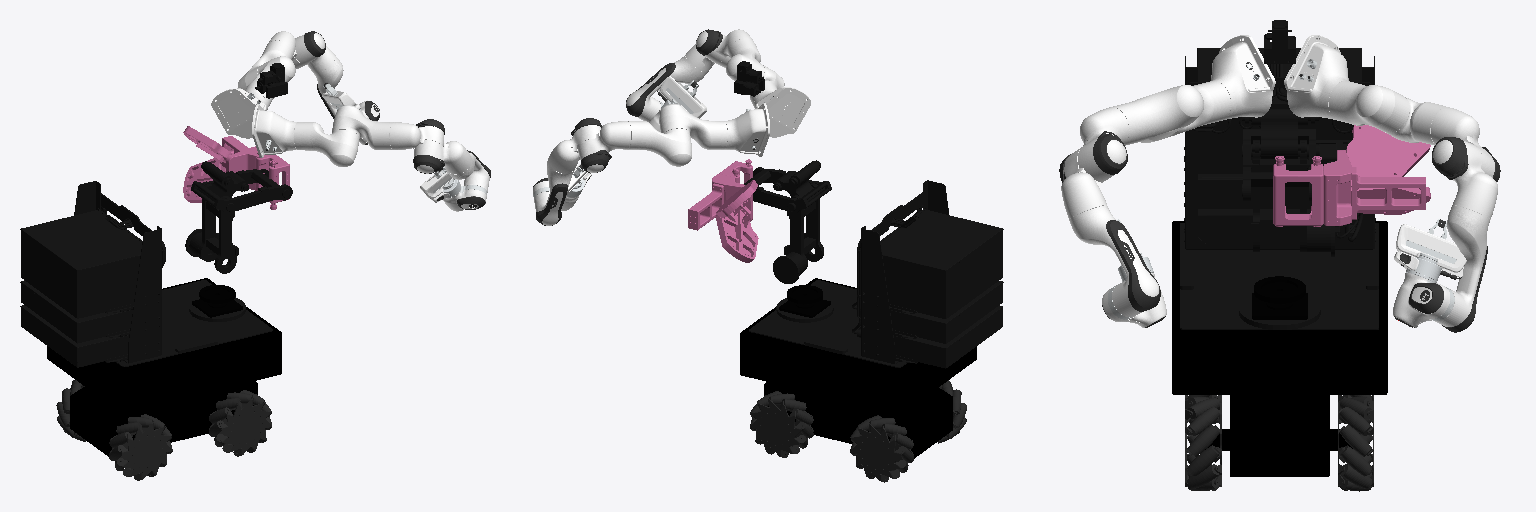
--- Facts derived from the render (not from the file) ---
3 views of the same robot in one strip: view 1: azimuth 30°, elevation 25°; view 2: azimuth 150°, elevation 25°; view 3: azimuth 270°, elevation 25° (orthographic).
Robot: curi — 40 links, 39 joints (16 revolute, 4 prismatic, 18 fixed, 1 floating); root link world; default pose: all joints at 0 but 2 set to mid-range because 0 is outside their limits (panda_left_joint4 = -1.57, panda_right_joint4 = -1.57).
Links seen in each view (by area): view 1: control_box, summit_xls_base_link, torso_end, summit_xls_back_right_wheel_link, summit_xls_front_right_wheel_link, torso_link_b2, torso_link_c1, panda_right_link1, panda_left_link0, panda_right_link0, panda_right_link4, panda_right_link2 (+10 smaller); view 2: control_box, summit_xls_base_link, torso_end, summit_xls_back_left_wheel_link, summit_xls_front_left_wheel_link, torso_link_b2, panda_left_link2, panda_right_link0, panda_right_link5, panda_left_link1, panda_left_link0, panda_left_link3 (+9 smaller); view 3: control_box, summit_xls_base_link, torso_end, panda_right_link5, panda_right_link0, panda_left_link0, panda_left_link5, summit_xls_front_right_wheel_link, panda_right_link2, panda_left_link4, summit_xls_front_left_wheel_link, panda_left_link1 (+14 smaller).
Link boxes in pixels (x1,y1,x2,y2): control_box: [20, 181, 272, 367]; summit_xls_base_link: [47, 278, 281, 456]; torso_end: [183, 126, 289, 209]; summit_xls_back_right_wheel_link: [109, 414, 172, 480]; summit_xls_front_right_wheel_link: [209, 390, 271, 456]; torso_link_b2: [185, 184, 238, 273]; torso_link_c1: [191, 169, 292, 213]; panda_right_link1: [294, 122, 359, 166]; panda_left_link0: [211, 88, 267, 138]; panda_right_link0: [252, 104, 296, 157]; panda_right_link4: [413, 140, 470, 173]; panda_right_link2: [332, 105, 392, 149]; control_box: [749, 180, 1003, 368]; summit_xls_base_link: [740, 278, 976, 458]; torso_end: [688, 159, 758, 262]; summit_xls_back_left_wheel_link: [850, 415, 913, 482]; summit_xls_front_left_wheel_link: [750, 391, 813, 457]; torso_link_b2: [773, 183, 823, 283]; panda_left_link2: [628, 121, 691, 166]; panda_right_link0: [754, 87, 810, 137]; panda_right_link5: [626, 54, 706, 121]; panda_left_link1: [659, 104, 727, 149]; panda_left_link0: [724, 103, 769, 156]; panda_left_link3: [578, 121, 630, 172]; control_box: [1180, 48, 1378, 329]; summit_xls_base_link: [1172, 221, 1387, 476]; torso_end: [1273, 125, 1430, 226]; panda_right_link5: [1069, 205, 1160, 316]; panda_right_link0: [1211, 35, 1275, 119]; panda_left_link0: [1284, 35, 1348, 119]; panda_left_link5: [1435, 205, 1489, 332]; summit_xls_front_right_wheel_link: [1185, 397, 1221, 490]; panda_right_link2: [1113, 85, 1203, 145]; panda_left_link4: [1432, 137, 1497, 219]; summit_xls_front_left_wheel_link: [1338, 397, 1373, 491]; panda_left_link1: [1329, 81, 1409, 132].
Bounding box of the posed robot: 1.76 × 1.18 × 1.51 m (x, y, z).
Meshes: 24 distinct files referenced, 35 mesh visuals loaded (21 Collada DAE); not drawn: 3 (reference not matched to a file when rendering).

robot.urdf — curi:
<?xml version="1.0" ?>
<!-- =================================================================================== -->
<!-- |    This document was autogenerated by xacro from ../robots/curi.urdf.xacro      | -->
<!-- |    EDITING THIS FILE BY HAND IS NOT RECOMMENDED                                 | -->
<!-- =================================================================================== -->
<robot name="curi">
  <!-- in kg-->
  <!-- =============================================================== -->
  <!-- || This file does not contain official inertial properties   || -->
  <!-- || of panda robot. The values are from the identification    || -->
  <!-- || results published in: Identification of the Franka Emika  || -->
  <!-- || PandaRobot With Retrieval of Feasible Parameters Using    || -->
  <!-- || Penalty-Based Optimization                                || -->
  <!-- || by: Claudio Gaz, Marco Cognetti, Alexander Oliva,         || -->
  <!-- || Paolo Robuffo Giordano, Alessandro de Luca                || -->
  <!-- =============================================================== -->
  <link name="world"/>
  <joint name="reference" type="floating">
    <parent link="world"/>
    <child link="summit_xls_base_footprint"/>
  </joint>
  <link name="summit_xls_base_footprint">
    <visual>
      <origin rpy="0 0 0" xyz="0 0 0"/>
      <geometry>
        <box size="0.001 0.001 0.001"/>
      </geometry>
    </visual>
  </link>
  <joint name="summit_xls_base_footprint_joint" type="fixed">
    <origin rpy="0 0 0" xyz="0 0 0.127"/>
    <parent link="summit_xls_base_footprint"/>
    <child link="summit_xls_base_link"/>
  </joint>
  <!-- BASE_LINK -->
  <link name="summit_xls_base_link">
    <inertial>
      <mass value="12500.0"/>
      <origin xyz="0 0 0"/>
      <inertia ixx="1.391" ixy="0.004" ixz="0.0" iyy="6.853" iyz="0.0" izz="6.125"/>
    </inertial>
    <visual>
      <origin rpy="0 0 0" xyz="0 0 0"/>
      <geometry>
        <mesh filename="../meshes/robotnik/bases/summit_xls_chassis.dae"/>
      </geometry>
      <material name="black">
        <color rgba="0.0 0.0 0.0 1"/>
      </material>
    </visual>
    <collision>
      <origin rpy="0 0 0 " xyz="0 0 0"/>
      <geometry>
        <mesh filename="../meshes/robotnik/bases/summit_xls_chassis.stl"/>
      </geometry>
    </collision>
  </link>
  <joint name="summit_xls_front_right_wheel_joint" type="fixed">
    <parent link="summit_xls_base_link"/>
    <child link="summit_xls_front_right_wheel_link"/>
    <origin rpy="0 0 0" xyz="0.2225 -0.2045 0.0"/>
    <axis rpy="0 0 0" xyz="0 1 0"/>
    <limit effort="100" velocity="100"/>
    <joint_properties damping="0.0" friction="0.0"/>
  </joint>
  <link name="summit_xls_front_right_wheel_link">
    <visual>
      <origin rpy="0 0 0" xyz="0 0 0"/>
      <geometry>
        <mesh filename="../meshes/robotnik/wheels/omni_wheel_2.dae"/>
      </geometry>
      <material name="darkgrey">
        <color rgba="0.2 0.2 0.2 1"/>
      </material>
    </visual>
    <collision>
      <origin rpy="1.5707963267948966 0 0" xyz="0 0 0"/>
      <geometry>
        <cylinder length="0.087" radius="0.127"/>
      </geometry>
    </collision>
    <inertial>
      <mass value="6.5"/>
      <origin xyz="0 0 0"/>
      <inertia ixx="0.0303095" ixy="0" ixz="0" iyy="0.05241925" iyz="0" izz="0.0303095"/>
    </inertial>
  </link>
  <joint name="summit_xls_front_left_wheel_joint" type="fixed">
    <parent link="summit_xls_base_link"/>
    <child link="summit_xls_front_left_wheel_link"/>
    <origin rpy="0 0 0" xyz="0.2225 0.2045 0.0"/>
    <axis rpy="0 0 0" xyz="0 1 0"/>
    <limit effort="100" velocity="100"/>
    <joint_properties damping="0.0" friction="0.0"/>
  </joint>
  <link name="summit_xls_front_left_wheel_link">
    <visual>
      <origin rpy="0 0 0" xyz="0 0 0"/>
      <geometry>
        <mesh filename="../meshes/robotnik/wheels/omni_wheel_1.dae"/>
      </geometry>
      <material name="darkgrey">
        <color rgba="0.2 0.2 0.2 1"/>
      </material>
    </visual>
    <collision>
      <origin rpy="1.5707963267948966 0 0" xyz="0 0 0"/>
      <geometry>
        <cylinder length="0.087" radius="0.127"/>
      </geometry>
    </collision>
    <inertial>
      <mass value="6.5"/>
      <origin xyz="0 0 0"/>
      <inertia ixx="0.0303095" ixy="0" ixz="0" iyy="0.05241925" iyz="0" izz="0.0303095"/>
    </inertial>
  </link>
  <joint name="summit_xls_back_left_wheel_joint" type="fixed">
    <parent link="summit_xls_base_link"/>
    <child link="summit_xls_back_left_wheel_link"/>
    <origin rpy="0 0 0" xyz="-0.2225 0.2045 0.0"/>
    <axis rpy="0 0 0" xyz="0 1 0"/>
    <limit effort="100" velocity="100"/>
    <joint_properties damping="0.0" friction="0.0"/>
  </joint>
  <link name="summit_xls_back_left_wheel_link">
    <visual>
      <origin rpy="0 0 0" xyz="0 0 0"/>
      <geometry>
        <mesh filename="../meshes/robotnik/wheels/omni_wheel_1.dae"/>
      </geometry>
      <material name="darkgrey">
        <color rgba="0.2 0.2 0.2 1"/>
      </material>
    </visual>
    <collision>
      <origin rpy="1.5707963267948966 0 0" xyz="0 0 0"/>
      <geometry>
        <cylinder length="0.087" radius="0.127"/>
      </geometry>
    </collision>
    <inertial>
      <mass value="6.5"/>
      <origin xyz="0 0 0"/>
      <inertia ixx="0.0303095" ixy="0" ixz="0" iyy="0.05241925" iyz="0" izz="0.0303095"/>
    </inertial>
  </link>
  <joint name="summit_xls_back_right_wheel_joint" type="fixed">
    <parent link="summit_xls_base_link"/>
    <child link="summit_xls_back_right_wheel_link"/>
    <origin rpy="0 0 0" xyz="-0.2225 -0.2045 0.0"/>
    <axis rpy="0 0 0" xyz="0 1 0"/>
    <limit effort="100" velocity="100"/>
    <joint_properties damping="0.0" friction="0.0"/>
  </joint>
  <link name="summit_xls_back_right_wheel_link">
    <visual>
      <origin rpy="0 0 0" xyz="0 0 0"/>
      <geometry>
        <mesh filename="../meshes/robotnik/wheels/omni_wheel_2.dae"/>
      </geometry>
      <material name="darkgrey">
        <color rgba="0.2 0.2 0.2 1"/>
      </material>
    </visual>
    <collision>
      <origin rpy="1.5707963267948966 0 0" xyz="0 0 0"/>
      <geometry>
        <cylinder length="0.087" radius="0.127"/>
      </geometry>
    </collision>
    <inertial>
      <mass value="6.5"/>
      <origin xyz="0 0 0"/>
      <inertia ixx="0.0303095" ixy="0" ixz="0" iyy="0.05241925" iyz="0" izz="0.0303095"/>
    </inertial>
  </link>
  <joint name="torso_joint_summit_xls_base_footprint" type="fixed">
    <parent link="summit_xls_base_footprint"/>
    <child link="control_box"/>
    <origin rpy="0 0 0" xyz="0 0 0.52262"/>
  </joint>
  <link name="control_box">
    <visual>
      <origin rpy="0 0 0" xyz="0 0 0"/>
      <geometry>
        <mesh filename="../meshes/clover/visual/control_box.dae"/>
      </geometry>
    </visual>
    <collision>
      <origin rpy="0 0 0" xyz="0 0 0"/>
      <geometry>
        <mesh filename="../meshes/clover/collision/control_box.stl"/>
      </geometry>
    </collision>
    <inertial>
      <!-- Estimated guesses from CAD -->
      <origin rpy="0 0 0" xyz="-0.221652 1.4173e-02 0.165597"/>
      <mass value="37.813"/>
      <inertia ixx="1.672305973" ixy="-0.023504956" ixz="-0.565170381" iyy="2.616747309" iyz="0.046623093" izz="2.524344244"/>
    </inertial>
  </link>
  <link name="torso_base1">
    <visual>
      <origin rpy="0 0 0" xyz="0 0 0"/>
      <geometry>
        <mesh filename="../meshes/clover/visual/torso_base1.dae"/>
      </geometry>
    </visual>
    <collision>
      <origin rpy="0 0 0" xyz="0 0 0"/>
      <geometry>
        <mesh filename="../meshes/clover/collision/torso_base1.stl"/>
      </geometry>
    </collision>
    <inertial>
      <origin rpy="0 0 0" xyz="0 0 0.02555"/>
      <mass value="1.18"/>
      <inertia ixx="0.00241116" ixy="0" ixz="0" iyy="0.00241116" iyz="0" izz="0.00362611"/>
    </inertial>
  </link>
  <joint name="torso_joint1" type="fixed">
    <origin rpy="0 0 0" xyz="0.2375 0 0.015"/>
    <parent link="control_box"/>
    <child link="torso_base1"/>
  </joint>
  <link name="torso_base2">
    <visual>
      <origin rpy="0 0 0" xyz="0 0 0"/>
      <geometry>
        <mesh filename="../meshes/clover/visual/torso_base2.dae"/>
      </geometry>
    </visual>
    <collision>
      <origin rpy="0 0 0" xyz="0 0 0"/>
      <geometry>
        <mesh filename="../meshes/clover/collision/torso_base2.stl"/>
      </geometry>
    </collision>
    <inertial>
      <origin rpy="0 0 0" xyz="-0.05478 0.03332 -0.07616"/>
      <mass value="35.66"/>
      <inertia ixx="0.87275935" ixy="-0.06173772" ixz="0.01895727" iyy="0.57302356" iyz="0.11888755" izz="1.06212354"/>
    </inertial>
  </link>
  <joint name="torso_actuated_joint1" type="fixed">
    <safety_controller k_position="100.0" k_velocity="40.0" soft_lower_limit="-1.5" soft_upper_limit="1.5"/>
    <origin rpy="0 0 0" xyz="0 0 0.215"/>
    <parent link="torso_base1"/>
    <child link="torso_base2"/>
    <axis xyz="0 0 1"/>
    <limit acceleration="0.6" effort="300" lower="-1.57" upper="1.57" velocity="0.3"/>
    <dynamics D="1" K="7000" damping="0.003" friction="0.0" mu_coulomb="0" mu_viscous="16"/>
  </joint>
  <link name="torso_link_b2">
    <visual>
      <origin rpy="0 0 0" xyz="0 0 0"/>
      <geometry>
        <mesh filename="../meshes/clover/visual/torso_link_b2.dae"/>
      </geometry>
    </visual>
    <collision>
      <origin rpy="0 0 0" xyz="0 0 0"/>
      <geometry>
        <mesh filename="../meshes/clover/collision/torso_link_b2.stl"/>
      </geometry>
    </collision>
    <inertial>
      <origin rpy="0 0 0" xyz="2.066e-03 2.4036e-02 8.3361e-02"/>
      <mass value="2.698"/>
      <inertia ixx="0.035907338" ixy="-0.000134319" ixz="0.000037769" iyy="0.023944853" iyz="-0.005304362" izz="0.014484777"/>
    </inertial>
  </link>
  <joint name="torso_actuated_joint2" type="fixed">
    <origin rpy="0 0 0" xyz="0 0 0"/>
    <parent link="torso_base2"/>
    <child link="torso_link_b2"/>
  </joint>
  <link name="torso_middle">
    <visual>
      <origin rpy="0 0 0" xyz="0 0 0"/>
      <geometry>
        <mesh filename="../meshes/clover/visual/torso_middle.dae"/>
      </geometry>
    </visual>
    <collision>
      <origin rpy="0 0 0" xyz="0 0 0"/>
      <geometry>
        <mesh filename="../meshes/clover/collision/torso_middle.stl"/>
      </geometry>
    </collision>
    <inertial>
      <origin rpy="0 0 0" xyz="3.2089e-02 0 4.789e-02"/>
      <mass value="2.688"/>
      <inertia ixx="0.00744652" ixy="-0.00003495" ixz="0.000230038" iyy="0.006884728" iyz="0.000041279" izz="0.008084049"/>
    </inertial>
  </link>
  <joint name="torso_joint5" type="fixed">
    <origin rpy="0 0 0" xyz="0 0 0.25"/>
    <parent link="torso_link_b2"/>
    <child link="torso_middle"/>
  </joint>
  <link name="torso_link_c1">
    <visual>
      <origin rpy="0 0 0" xyz="0 0 0"/>
      <geometry>
        <mesh filename="../meshes/clover/visual/torso_link_c1.dae"/>
      </geometry>
    </visual>
    <collision>
      <origin rpy="0 0 0" xyz="0 0 0"/>
      <geometry>
        <mesh filename="../meshes/clover/collision/torso_link_c1.stl"/>
      </geometry>
    </collision>
    <inertial>
      <origin rpy="0 0 0" xyz="0.10533 1.503e-03 9.863e-03"/>
      <mass value="2.4"/>
      <inertia ixx="0.014986407" ixy="-1.7102e-05" ixz="-4.53321e-04" iyy="0.027549549" iyz="-3.557e-05" izz="0.041344611"/>
    </inertial>
  </link>
  <joint name="torso_actuated_joint3" type="fixed">
    <origin rpy="0 0 0" xyz="0 0 0"/>
    <parent link="torso_middle"/>
    <child link="torso_link_c1"/>
  </joint>
  <link name="shell">
    <visual>
      <origin rpy="0 0 0" xyz="0 0 0"/>
      <geometry>
        <mesh filename="../meshes/clover/visual/Shell_v2_Share_yup.dae"/>
      </geometry>
    </visual>
    <collision>
      <origin rpy="0 0 0" xyz="0 0 0"/>
      <geometry>
        <mesh filename="../meshes/clover/collision/Shell_v2_Share_yup.STL"/>
      </geometry>
    </collision>
    <inertial>
      <origin rpy="0 0 0" xyz="0.120384 0.569e-03 6.703e-03"/>
      <mass value="1.63531"/>
      <inertia ixx="0.010693997" ixy="5.645e-06" ixz="-9.4779e-04" iyy="0.026717753" iyz="-8.196e-06" izz="0.036543169"/>
    </inertial>
  </link>
  <joint name="shell_torso_end" type="fixed">
    <parent link="torso_end"/>
    <child link="shell"/>
    <origin rpy="0 0 0" xyz="0 0 0"/>
  </joint>
  <link name="torso_end">
    <visual>
      <origin rpy="0 0 0" xyz="0 0 0"/>
      <geometry>
        <mesh filename="../meshes/clover/visual/torso_end_v2_yup.dae"/>
      </geometry>
    </visual>
    <collision>
      <origin rpy="0 0 0" xyz="0 0 0"/>
      <geometry>
        <mesh filename="../meshes/clover/collision/torso_end_v2_yup.stl"/>
      </geometry>
    </collision>
    <inertial>
      <origin rpy="0 0 0" xyz="1.3086e-02 0.132e-03 0.184066"/>
      <mass value="12.083"/>
      <inertia ixx="0.146638956" ixy="-2.2432e-05" ixz="-0.012989506" iyy="0.097685785" iyz="-2.19304e-04" izz="0.100449047"/>
    </inertial>
  </link>
  <joint name="torso_joint8" type="fixed">
    <origin rpy="0 0 0" xyz="0.25 0 0"/>
    <parent link="torso_link_c1"/>
    <child link="torso_end"/>
  </joint>
  <joint name="head_joint_torso_end" type="fixed">
    <parent link="torso_end"/>
    <child link="head_base"/>
    <origin rpy="0 0 0" xyz="0.02 0 0.3929"/>
  </joint>
  <link name="head_base">
    <visual>
      <origin rpy="0 0 0" xyz="0 0 0"/>
      <geometry>
        <mesh filename="../meshes/clover/visual/head_base.dae"/>
      </geometry>
    </visual>
    <collision>
      <origin rpy="0 0 0" xyz="0 0 0"/>
      <geometry>
        <mesh filename="../meshes/clover/collision/head_base.stl"/>
      </geometry>
    </collision>
    <inertial>
      <!-- Estimated guesses from CAD -->
      <origin rpy="0 0 0" xyz="-1.9726e-02 1.281e-03 2.2693e-02"/>
      <mass value="0.803"/>
      <inertia ixx="6.56432e-04" ixy="-3.4976e-05" ixz="0.652e-6" iyy="6.42664e-04" iyz="-1.577e-06" izz="1.046862e-03"/>
    </inertial>
  </link>
  <joint name="head_actuated_joint1" type="revolute">
    <safety_controller k_position="100.0" k_velocity="40.0" soft_lower_limit="-1.5" soft_upper_limit="1.5"/>
    <origin rpy="0 0 0" xyz="0 0 0.045"/>
    <parent link="head_base"/>
    <child link="head_link1"/>
    <axis xyz="0 0 1"/>
    <limit effort="30" lower="-1.57" upper="1.57" velocity="1.0"/>
    <dynamics D="1" K="7000" damping="0.003" friction="0.0" mu_coulomb="0" mu_viscous="16"/>
  </joint>
  <link name="head_link1">
    <visual>
      <origin rpy="0 0 0" xyz="0 0 0"/>
      <geometry>
        <mesh filename="../meshes/clover/visual/head_link1.dae"/>
      </geometry>
    </visual>
    <collision>
      <origin rpy="0 0 0" xyz="0 0 0"/>
      <geometry>
        <mesh filename="../meshes/clover/collision/head_link1.stl"/>
      </geometry>
    </collision>
    <inertial>
      <!-- Estimated guesses from CAD -->
      <origin rpy="0 0 0" xyz="-1.8392e-02 -0.4e-03 2.8338e-02"/>
      <mass value="0.534"/>
      <inertia ixx="2.34142e-04" ixy="-3.129e-06" ixz="6.321e-05" iyy="5.09246e-04" iyz="1.49e-06" izz="4.3777e-04"/>
    </inertial>
  </link>
  <joint name="head_actuated_joint2" type="revolute">
    <safety_controller k_position="100.0" k_velocity="40.0" soft_lower_limit="-0.8" soft_upper_limit="0.5"/>
    <origin rpy="0 0 0" xyz="0 0 0.043"/>
    <parent link="head_link1"/>
    <child link="head_link2"/>
    <axis xyz="0 1 0"/>
    <limit effort="30" lower="-0.82" upper="0.52" velocity="1.0"/>
    <dynamics D="1" K="7000" damping="0.003" friction="0.0" mu_coulomb="0" mu_viscous="16"/>
  </joint>
  <link name="head_link2">
    <visual>
      <origin rpy="0 0 0" xyz="0 0 0"/>
      <geometry>
        <mesh filename="../meshes/clover/visual/head_link2.dae"/>
      </geometry>
    </visual>
    <collision>
      <origin rpy="0 0 0" xyz="0 0 0"/>
      <geometry>
        <mesh filename="../meshes/clover/collision/head_link2.stl"/>
      </geometry>
    </collision>
    <inertial>
      <!-- Estimated guesses from CAD -->
      <origin rpy="0 0 0" xyz="3.8624e-02 0 0.143829"/>
      <mass value="1.346"/>
      <inertia ixx="0.010306864" ixy="-5.953e-06" ixz="6.74795e-04" iyy="0.011632066" iyz="-1.125e-06" izz="0.009582498"/>
    </inertial>
  </link>
  <joint name="panda_left_joint_torso_end" type="fixed">
    <parent link="torso_end"/>
    <child link="panda_left_link0"/>
    <origin rpy="-1.3685238493647454 0.913218224774749 -0.6168337646727412" xyz="-0.08537 0.07009 0.2535"/>
  </joint>
  <link name="panda_left_link0">
    <visual>
      <origin rpy="0 0 0" xyz="0 0 0"/>
      <geometry>
        <mesh filename="../meshes/franka/visual/link0.dae"/>
      </geometry>
    </visual>
    <collision>
      <origin rpy="0 0 0" xyz="0 0 0"/>
      <geometry>
        <mesh filename="../meshes/franka/collision/link0.stl"/>
      </geometry>
    </collision>
    <inertial>
      <!-- Estimated guesses from CAD -->
      <origin rpy="0 0 0" xyz="-0.041018 -0.00014 0.049974"/>
      <mass value="0.629769"/>
      <inertia ixx="0.00315" ixy="8.2904E-07" ixz="0.00015" iyy="0.00388" iyz="8.2299E-06" izz="0.004285"/>
    </inertial>
  </link>
  <link name="panda_left_link1">
    <visual>
      <origin rpy="0 0 0" xyz="0 0 0"/>
      <geometry>
        <mesh filename="../meshes/franka/visual/link1.dae"/>
      </geometry>
    </visual>
    <collision>
      <origin rpy="0 0 0" xyz="0 0 0"/>
      <geometry>
        <mesh filename="../meshes/franka/collision/link1.stl"/>
      </geometry>
    </collision>
    <inertial>
      <origin rpy="0 0 0" xyz="0.003875 0.002081 -0.04762"/>
      <mass value="4.970684"/>
      <inertia ixx="0.70337" ixy="-0.00013900" ixz="0.0067720" iyy="0.70661" iyz="0.019169" izz="0.0091170"/>
    </inertial>
  </link>
  <joint name="panda_left_joint1" type="revolute">
    <safety_controller k_position="100.0" k_velocity="40.0" soft_lower_limit="-2.8973" soft_upper_limit="2.8973"/>
    <origin rpy="0 0 0" xyz="0 0 0.333"/>
    <parent link="panda_left_link0"/>
    <child link="panda_left_link1"/>
    <axis xyz="0 0 1"/>
    <limit acceleration="15" effort="87" lower="-2.8973" upper="2.8973" velocity="2.1750"/>
    <dynamics D="1" K="7000" damping="0.003" friction="0.0" mu_coulomb="0" mu_viscous="16"/>
  </joint>
  <link name="panda_left_link2">
    <visual>
      <origin rpy="0 0 0" xyz="0 0 0"/>
      <geometry>
        <mesh filename="../meshes/franka/visual/link2.dae"/>
      </geometry>
    </visual>
    <collision>
      <origin rpy="0 0 0" xyz="0 0 0"/>
      <geometry>
        <mesh filename="../meshes/franka/collision/link2.stl"/>
      </geometry>
    </collision>
    <inertial>
      <origin rpy="0 0 0" xyz=" -0.003141 -0.02872  0.003495"/>
      <mass value="0.646926"/>
      <inertia ixx="0.0079620" ixy="-3.9250e-3" ixz="1.0254e-02" iyy="2.8110e-02" iyz="7.0400e-04" izz="2.5995e-02"/>
    </inertial>
  </link>
  <joint name="panda_left_joint2" type="revolute">
    <safety_controller k_position="100.0" k_velocity="40.0" soft_lower_limit="-1.7628" soft_upper_limit="1.7628"/>
    <origin rpy="-1.5707963267948966 0 0" xyz="0 0 0"/>
    <parent link="panda_left_link1"/>
    <child link="panda_left_link2"/>
    <axis xyz="0 0 1"/>
    <limit acceleration="7.5" effort="87" lower="-1.7628" upper="1.7628" velocity="2.1750"/>
    <dynamics D="1" K="7000" damping="0.003" friction="0.0" mu_coulomb="0" mu_viscous="16"/>
  </joint>
  <link name="panda_left_link3">
    <visual>
      <origin rpy="0 0 0" xyz="0 0 0"/>
      <geometry>
        <mesh filename="../meshes/franka/visual/link3.dae"/>
      </geometry>
    </visual>
    <collision>
      <origin rpy="0 0 0" xyz="0 0 0"/>
      <geometry>
        <mesh filename="../meshes/franka/collision/link3.stl"/>
      </geometry>
    </collision>
    <inertial>
      <origin rpy="0 0 0" xyz="2.7518e-02 3.9252e-02 -6.6502e-02"/>
      <mass value="3.228604"/>
      <inertia ixx="3.7242e-02" ixy="-4.7610e-03" ixz="-1.1396e-02" iyy="3.6155e-02" iyz="-1.2805e-02" izz="1.0830e-02"/>
    </inertial>
  </link>
  <joint name="panda_left_joint3" type="revolute">
    <safety_controller k_position="100.0" k_velocity="40.0" soft_lower_limit="-2.8973" soft_upper_limit="2.8973"/>
    <origin rpy="1.5707963267948966 0 0" xyz="0 -0.316 0"/>
    <parent link="panda_left_link2"/>
    <child link="panda_left_link3"/>
    <axis xyz="0 0 1"/>
    <limit acceleration="12.5" effort="87" lower="-2.8973" upper="2.8973" velocity="2.1750"/>
    <dynamics D="1" K="7000" damping="0.003" friction="0.0" mu_coulomb="0" mu_viscous="16"/>
  </joint>
  <link name="panda_left_link4">
    <visual>
      <origin rpy="0 0 0" xyz="0 0 0"/>
      <geometry>
        <mesh filename="../meshes/franka/visual/link4.dae"/>
      </geometry>
    </visual>
    <collision>
      <origin rpy="0 0 0" xyz="0 0 0"/>
      <geometry>
        <mesh filename="../meshes/franka/collision/link4.stl"/>
      </geometry>
    </collision>
    <inertial>
      <origin rpy="0 0 0" xyz="-5.317e-02 1.04419e-01 2.7454e-02"/>
      <mass value="3.587895"/>
      <inertia ixx="2.5853e-02" ixy="7.7960e-03" ixz="-1.3320e-03" iyy="1.9552e-02" iyz="8.6410e-03" izz="2.8323e-02"/>
    </inertial>
  </link>
  <joint name="panda_left_joint4" type="revolute">
    <safety_controller k_position="100.0" k_velocity="40.0" soft_lower_limit="-3.0718" soft_upper_limit="-0.0698"/>
    <origin rpy="1.5707963267948966 0 0" xyz="0.0825 0 0"/>
    <parent link="panda_left_link3"/>
    <child link="panda_left_link4"/>
    <axis xyz="0 0 1"/>
    <limit acceleration="12.5" effort="87" lower="-3.0718" upper="-0.0698" velocity="2.1750"/>
    <dynamics D="1" K="7000" damping="0.003" friction="0.0" mu_coulomb="0" mu_viscous="16"/>
  </joint>
  <link name="panda_left_link5">
    <visual>
      <origin rpy="0 0 0" xyz="0 0 0"/>
      <geometry>
        <mesh filename="../meshes/franka/visual/link5.dae"/>
      </geometry>
    </visual>
    <collision>
      <origin rpy="0 0 0" xyz="0 0 0"/>
      <geometry>
        <mesh filename="../meshes/franka/collision/link5.stl"/>
      </geometry>
    </collision>
    <inertial>
      <origin rpy="0 0 0" xyz="-1.1953e-02 4.1065e-02 -3.8437e-02"/>
      <mass value="1.225946"/>
      <inertia ixx="3.5549e-02" ixy="-2.1170e-03" ixz="-4.0370e-03" iyy="2.9474e-02" iyz="2.2900e-04" izz="8.6270e-03"/>
    </inertial>
  </link>
  <joint name="panda_left_joint5" type="revolute">
    <safety_controller k_position="100.0" k_velocity="40.0" soft_lower_limit="-2.8973" soft_upper_limit="2.8973"/>
    <origin rpy="-1.5707963267948966 0 0" xyz="-0.0825 0.384 0"/>
    <parent link="panda_left_link4"/>
    <child link="panda_left_link5"/>
    <axis xyz="0 0 1"/>
    <limit acceleration="15" effort="12" lower="-2.8973" upper="2.8973" velocity="2.6100"/>
    <dynamics D="1" K="7000" damping="0.003" friction="0.0" mu_coulomb="0" mu_viscous="16"/>
  </joint>
  <link name="panda_left_link6">
    <visual>
      <origin rpy="0 0 0" xyz="0 0 0"/>
      <geometry>
        <mesh filename="../meshes/franka/visual/link6.dae"/>
      </geometry>
    </visual>
    <collision>
      <origin rpy="0 0 0" xyz="0 0 0"/>
      <geometry>
        <mesh filename="../meshes/franka/collision/link6.stl"/>
      </geometry>
    </collision>
    <inertial>
      <origin rpy="0 0 0" xyz="6.0149e-02 -1.4117e-02 -1.0517e-02"/>
      <mass value="1.666555"/>
      <inertia ixx="1.9640e-03" ixy="1.0900e-04" ixz="-1.1580e-03" iyy="4.3540e-03" iyz="3.4100e-04" izz="5.4330e-03"/>
    </inertial>
  </link>
  <joint name="panda_left_joint6" type="revolute">
    <safety_controller k_position="100.0" k_velocity="40.0" soft_lower_limit="-0.0175" soft_upper_limit="3.7525"/>
    <origin rpy="1.5707963267948966 0 0" xyz="0 0 0"/>
    <parent link="panda_left_link5"/>
    <child link="panda_left_link6"/>
    <axis xyz="0 0 1"/>
    <limit acceleration="20" effort="12" lower="-0.0175" upper="3.7525" velocity="2.6100"/>
    <dynamics D="1" K="7000" damping="0.003" friction="0.0" mu_coulomb="0" mu_viscous="16"/>
  </joint>
  <link name="panda_left_link7">
    <visual>
      <origin rpy="0 0 0" xyz="0 0 0"/>
      <geometry>
        <mesh filename="../meshes/franka/visual/link7.dae"/>
      </geometry>
    </visual>
    <collision>
      <origin rpy="0 0 0" xyz="0 0 0"/>
      <geometry>
        <mesh filename="../meshes/franka/collision/link7.stl"/>
      </geometry>
    </collision>
    <inertial>
      <origin rpy="0 0 0" xyz="1.0517e-02 -4.252e-03 6.1597e-02"/>
      <mass value="7.35522e-01"/>
      <inertia ixx="1.2516e-02" ixy="-4.2800e-04" ixz="-1.1960e-03" iyy="1.0027e-02" iyz="-7.4100e-04" izz="4.8150e-03"/>
    </inertial>
  </link>
  <joint name="panda_left_joint7" type="revolute">
    <safety_controller k_position="100.0" k_velocity="40.0" soft_lower_limit="-2.8973" soft_upper_limit="2.8973"/>
    <origin rpy="1.5707963267948966 0 0" xyz="0.088 0 0"/>
    <parent link="panda_left_link6"/>
    <child link="panda_left_link7"/>
    <axis xyz="0 0 1"/>
    <limit acceleration="20" effort="12" lower="-2.8973" upper="2.8973" velocity="2.6100"/>
    <dynamics D="1" K="7000" damping="0.003" friction="0.0" mu_coulomb="0" mu_viscous="16"/>
  </joint>
  <joint name="panda_right_joint_torso_end" type="fixed">
    <parent link="torso_end"/>
    <child link="panda_right_link0"/>
    <origin rpy="1.3685238493647454 0.913218224774749 0.6168337646727412" xyz="-0.08537 -0.07009 0.2535"/>
  </joint>
  <link name="panda_right_link0">
    <visual>
      <origin rpy="0 0 0" xyz="0 0 0"/>
      <geometry>
        <mesh filename="../meshes/franka/visual/link0.dae"/>
      </geometry>
    </visual>
    <collision>
      <origin rpy="0 0 0" xyz="0 0 0"/>
      <geometry>
        <mesh filename="../meshes/franka/collision/link0.stl"/>
      </geometry>
    </collision>
    <inertial>
      <!-- Estimated guesses from CAD -->
      <origin rpy="0 0 0" xyz="-0.041018 -0.00014 0.049974"/>
      <mass value="0.629769"/>
      <inertia ixx="0.00315" ixy="8.2904E-07" ixz="0.00015" iyy="0.00388" iyz="8.2299E-06" izz="0.004285"/>
    </inertial>
  </link>
  <link name="panda_right_link1">
    <visual>
      <origin rpy="0 0 0" xyz="0 0 0"/>
      <geometry>
        <mesh filename="../meshes/franka/visual/link1.dae"/>
      </geometry>
    </visual>
    <collision>
      <origin rpy="0 0 0" xyz="0 0 0"/>
      <geometry>
        <mesh filename="../meshes/franka/collision/link1.stl"/>
      </geometry>
    </collision>
    <inertial>
      <origin rpy="0 0 0" xyz="0.003875 0.002081 -0.04762"/>
      <mass value="4.970684"/>
      <inertia ixx="0.70337" ixy="-0.00013900" ixz="0.0067720" iyy="0.70661" iyz="0.019169" izz="0.0091170"/>
    </inertial>
  </link>
  <joint name="panda_right_joint1" type="revolute">
    <safety_controller k_position="100.0" k_velocity="40.0" soft_lower_limit="-2.8973" soft_upper_limit="2.8973"/>
    <origin rpy="0 0 0" xyz="0 0 0.333"/>
    <parent link="panda_right_link0"/>
    <child link="panda_right_link1"/>
    <axis xyz="0 0 1"/>
    <limit acceleration="15" effort="87" lower="-2.8973" upper="2.8973" velocity="2.1750"/>
    <dynamics D="1" K="7000" damping="0.003" friction="0.0" mu_coulomb="0" mu_viscous="16"/>
  </joint>
  <link name="panda_right_link2">
    <visual>
      <origin rpy="0 0 0" xyz="0 0 0"/>
      <geometry>
        <mesh filename="../meshes/franka/visual/link2.dae"/>
      </geometry>
    </visual>
    <collision>
      <origin rpy="0 0 0" xyz="0 0 0"/>
      <geometry>
        <mesh filename="../meshes/franka/collision/link2.stl"/>
      </geometry>
    </collision>
    <inertial>
      <origin rpy="0 0 0" xyz=" -0.003141 -0.02872  0.003495"/>
      <mass value="0.646926"/>
      <inertia ixx="0.0079620" ixy="-3.9250e-3" ixz="1.0254e-02" iyy="2.8110e-02" iyz="7.0400e-04" izz="2.5995e-02"/>
    </inertial>
  </link>
  <joint name="panda_right_joint2" type="revolute">
    <safety_controller k_position="100.0" k_velocity="40.0" soft_lower_limit="-1.7628" soft_upper_limit="1.7628"/>
    <origin rpy="-1.5707963267948966 0 0" xyz="0 0 0"/>
    <parent link="panda_right_link1"/>
    <child link="panda_right_link2"/>
    <axis xyz="0 0 1"/>
    <limit acceleration="7.5" effort="87" lower="-1.7628" upper="1.7628" velocity="2.1750"/>
    <dynamics D="1" K="7000" damping="0.003" friction="0.0" mu_coulomb="0" mu_viscous="16"/>
  </joint>
  <link name="panda_right_link3">
    <visual>
      <origin rpy="0 0 0" xyz="0 0 0"/>
      <geometry>
        <mesh filename="../meshes/franka/visual/link3.dae"/>
      </geometry>
    </visual>
    <collision>
      <origin rpy="0 0 0" xyz="0 0 0"/>
      <geometry>
        <mesh filename="../meshes/franka/collision/link3.stl"/>
      </geometry>
    </collision>
    <inertial>
      <origin rpy="0 0 0" xyz="2.7518e-02 3.9252e-02 -6.6502e-02"/>
      <mass value="3.228604"/>
      <inertia ixx="3.7242e-02" ixy="-4.7610e-03" ixz="-1.1396e-02" iyy="3.6155e-02" iyz="-1.2805e-02" izz="1.0830e-02"/>
    </inertial>
  </link>
  <joint name="panda_right_joint3" type="revolute">
    <safety_controller k_position="100.0" k_velocity="40.0" soft_lower_limit="-2.8973" soft_upper_limit="2.8973"/>
    <origin rpy="1.5707963267948966 0 0" xyz="0 -0.316 0"/>
    <parent link="panda_right_link2"/>
    <child link="panda_right_link3"/>
    <axis xyz="0 0 1"/>
    <limit acceleration="12.5" effort="87" lower="-2.8973" upper="2.8973" velocity="2.1750"/>
    <dynamics D="1" K="7000" damping="0.003" friction="0.0" mu_coulomb="0" mu_viscous="16"/>
  </joint>
  <link name="panda_right_link4">
    <visual>
      <origin rpy="0 0 0" xyz="0 0 0"/>
      <geometry>
        <mesh filename="../meshes/franka/visual/link4.dae"/>
      </geometry>
    </visual>
    <collision>
      <origin rpy="0 0 0" xyz="0 0 0"/>
      <geometry>
        <mesh filename="../meshes/franka/collision/link4.stl"/>
      </geometry>
    </collision>
    <inertial>
      <origin rpy="0 0 0" xyz="-5.317e-02 1.04419e-01 2.7454e-02"/>
      <mass value="3.587895"/>
      <inertia ixx="2.5853e-02" ixy="7.7960e-03" ixz="-1.3320e-03" iyy="1.9552e-02" iyz="8.6410e-03" izz="2.8323e-02"/>
    </inertial>
  </link>
  <joint name="panda_right_joint4" type="revolute">
    <safety_controller k_position="100.0" k_velocity="40.0" soft_lower_limit="-3.0718" soft_upper_limit="-0.0698"/>
    <origin rpy="1.5707963267948966 0 0" xyz="0.0825 0 0"/>
    <parent link="panda_right_link3"/>
    <child link="panda_right_link4"/>
    <axis xyz="0 0 1"/>
    <limit acceleration="12.5" effort="87" lower="-3.0718" upper="-0.0698" velocity="2.1750"/>
    <dynamics D="1" K="7000" damping="0.003" friction="0.0" mu_coulomb="0" mu_viscous="16"/>
  </joint>
  <link name="panda_right_link5">
    <visual>
      <origin rpy="0 0 0" xyz="0 0 0"/>
      <geometry>
        <mesh filename="../meshes/franka/visual/link5.dae"/>
      </geometry>
    </visual>
    <collision>
      <origin rpy="0 0 0" xyz="0 0 0"/>
      <geometry>
        <mesh filename="../meshes/franka/collision/link5.stl"/>
      </geometry>
    </collision>
    <inertial>
      <origin rpy="0 0 0" xyz="-1.1953e-02 4.1065e-02 -3.8437e-02"/>
      <mass value="1.225946"/>
      <inertia ixx="3.5549e-02" ixy="-2.1170e-03" ixz="-4.0370e-03" iyy="2.9474e-02" iyz="2.2900e-04" izz="8.6270e-03"/>
    </inertial>
  </link>
  <joint name="panda_right_joint5" type="revolute">
    <safety_controller k_position="100.0" k_velocity="40.0" soft_lower_limit="-2.8973" soft_upper_limit="2.8973"/>
    <origin rpy="-1.5707963267948966 0 0" xyz="-0.0825 0.384 0"/>
    <parent link="panda_right_link4"/>
    <child link="panda_right_link5"/>
    <axis xyz="0 0 1"/>
    <limit acceleration="15" effort="12" lower="-2.8973" upper="2.8973" velocity="2.6100"/>
    <dynamics D="1" K="7000" damping="0.003" friction="0.0" mu_coulomb="0" mu_viscous="16"/>
  </joint>
  <link name="panda_right_link6">
    <visual>
      <origin rpy="0 0 0" xyz="0 0 0"/>
      <geometry>
        <mesh filename="../meshes/franka/visual/link6.dae"/>
      </geometry>
    </visual>
    <collision>
      <origin rpy="0 0 0" xyz="0 0 0"/>
      <geometry>
        <mesh filename="../meshes/franka/collision/link6.stl"/>
      </geometry>
    </collision>
    <inertial>
      <origin rpy="0 0 0" xyz="6.0149e-02 -1.4117e-02 -1.0517e-02"/>
      <mass value="1.666555"/>
      <inertia ixx="1.9640e-03" ixy="1.0900e-04" ixz="-1.1580e-03" iyy="4.3540e-03" iyz="3.4100e-04" izz="5.4330e-03"/>
    </inertial>
  </link>
  <joint name="panda_right_joint6" type="revolute">
    <safety_controller k_position="100.0" k_velocity="40.0" soft_lower_limit="-0.0175" soft_upper_limit="3.7525"/>
    <origin rpy="1.5707963267948966 0 0" xyz="0 0 0"/>
    <parent link="panda_right_link5"/>
    <child link="panda_right_link6"/>
    <axis xyz="0 0 1"/>
    <limit acceleration="20" effort="12" lower="-0.0175" upper="3.7525" velocity="2.6100"/>
    <dynamics D="1" K="7000" damping="0.003" friction="0.0" mu_coulomb="0" mu_viscous="16"/>
  </joint>
  <link name="panda_right_link7">
    <visual>
      <origin rpy="0 0 0" xyz="0 0 0"/>
      <geometry>
        <mesh filename="../meshes/franka/visual/link7.dae"/>
      </geometry>
    </visual>
    <collision>
      <origin rpy="0 0 0" xyz="0 0 0"/>
      <geometry>
        <mesh filename="../meshes/franka/collision/link7.stl"/>
      </geometry>
    </collision>
    <inertial>
      <origin rpy="0 0 0" xyz="1.0517e-02 -4.252e-03 6.1597e-02"/>
      <mass value="7.35522e-01"/>
      <inertia ixx="1.2516e-02" ixy="-4.2800e-04" ixz="-1.1960e-03" iyy="1.0027e-02" iyz="-7.4100e-04" izz="4.8150e-03"/>
    </inertial>
  </link>
  <joint name="panda_right_joint7" type="revolute">
    <safety_controller k_position="100.0" k_velocity="40.0" soft_lower_limit="-2.8973" soft_upper_limit="2.8973"/>
    <origin rpy="1.5707963267948966 0 0" xyz="0.088 0 0"/>
    <parent link="panda_right_link6"/>
    <child link="panda_right_link7"/>
    <axis xyz="0 0 1"/>
    <limit acceleration="20" effort="12" lower="-2.8973" upper="2.8973" velocity="2.6100"/>
    <dynamics D="1" K="7000" damping="0.003" friction="0.0" mu_coulomb="0" mu_viscous="16"/>
  </joint>
  <joint name="panda_left_hand_joint" type="fixed">
    <parent link="panda_left_link7"/>
    <child link="panda_left_hand"/>
    <origin rpy="0 0 -0.7853981633974483" xyz="0 0 0.107"/>
  </joint>
  <link name="panda_left_hand">
    <visual>
      <geometry>
        <mesh filename="../meshes/franka/visual/hand.dae"/>
      </geometry>
    </visual>
    <collision>
      <geometry>
        <mesh filename="../meshes/franka/collision/hand.stl"/>
      </geometry>
    </collision>
    <inertial>
      <mass value="0.73"/>
      <origin xyz="-0.01 0 0.03"/>
      <inertia ixx="0.001" ixy="0" ixz="0" iyy="0.0025" iyz="0" izz="0.0017"/>
    </inertial>
  </link>
  <link name="panda_left_leftfinger">
    <inertial>
      <mass value="0.015"/>
      <inertia ixx="2.3749999999999997e-06" ixy="0" ixz="0" iyy="2.3749999999999997e-06" iyz="0" izz="7.5e-07"/>
    </inertial>
    <visual>
      <geometry>
        <mesh filename="../meshes/franka/visual/finger.dae"/>
      </geometry>
    </visual>
    <!-- screw mount -->
    <collision>
      <origin rpy="0 0 0" xyz="0 +18.5e-3 11e-3"/>
      <geometry>
        <box size="22e-3 15e-3 20e-3"/>
      </geometry>
    </collision>
    <!-- cartriage sledge -->
    <collision>
      <origin rpy="0 0 0" xyz="0 +6.8e-3 2.2e-3"/>
      <geometry>
        <box size="22e-3 8.8e-3 3.8e-3"/>
      </geometry>
    </collision>
    <!-- diagonal finger -->
    <collision>
      <origin rpy="+0.5235987755982988 0 0" xyz="0 +15.9e-3 28.35e-3"/>
      <geometry>
        <box size="17.5e-3 7e-3 23.5e-3"/>
      </geometry>
    </collision>
    <!-- rubber tip with which to grasp -->
    <collision>
      <origin rpy="0 0 0" xyz="0 +7.58e-3 45.25e-3"/>
      <geometry>
        <box size="17.5e-3 15.2e-3 18.5e-3"/>
      </geometry>
    </collision>
  </link>
  <link name="panda_left_rightfinger">
    <inertial>
      <mass value="0.015"/>
      <inertia ixx="2.3749999999999997e-06" ixy="0" ixz="0" iyy="2.3749999999999997e-06" iyz="0" izz="7.5e-07"/>
    </inertial>
    <visual>
      <origin rpy="0 0 3.141592653589793" xyz="0 0 0"/>
      <geometry>
        <mesh filename="../meshes/franka/visual/finger.dae"/>
      </geometry>
    </visual>
    <!-- screw mount -->
    <collision>
      <origin rpy="0 0 0" xyz="0 -18.5e-3 11e-3"/>
      <geometry>
        <box size="22e-3 15e-3 20e-3"/>
      </geometry>
    </collision>
    <!-- cartriage sledge -->
    <collision>
      <origin rpy="0 0 0" xyz="0 -6.8e-3 2.2e-3"/>
      <geometry>
        <box size="22e-3 8.8e-3 3.8e-3"/>
      </geometry>
    </collision>
    <!-- diagonal finger -->
    <collision>
      <origin rpy="-0.5235987755982988 0 0" xyz="0 -15.9e-3 28.35e-3"/>
      <geometry>
        <box size="17.5e-3 7e-3 23.5e-3"/>
      </geometry>
    </collision>
    <!-- rubber tip with which to grasp -->
    <collision>
      <origin rpy="0 0 0" xyz="0 -7.58e-3 45.25e-3"/>
      <geometry>
        <box size="17.5e-3 15.2e-3 18.5e-3"/>
      </geometry>
    </collision>
  </link>
  <joint name="panda_left_finger_joint1" type="prismatic">
    <parent link="panda_left_hand"/>
    <child link="panda_left_leftfinger"/>
    <origin rpy="0 0 0" xyz="0 0 0.0584"/>
    <axis xyz="0 1 0"/>
    <limit effort="100" lower="0.0" upper="0.04" velocity="0.2"/>
    <dynamics damping="0.03" friction="0.0"/>
  </joint>
  <joint name="panda_left_finger_joint2" type="prismatic">
    <parent link="panda_left_hand"/>
    <child link="panda_left_rightfinger"/>
    <origin rpy="0 0 0" xyz="0 0 0.0584"/>
    <axis xyz="0 -1 0"/>
    <limit effort="100" lower="0.0" upper="0.04" velocity="0.2"/>
    <dynamics damping="0.03" friction="0.0"/>
  </joint>
  <joint name="panda_right_hand_joint" type="fixed">
    <parent link="panda_right_link7"/>
    <child link="panda_right_hand"/>
    <origin rpy="0 0 -0.7853981633974483" xyz="0 0 0.107"/>
  </joint>
  <link name="panda_right_hand">
    <visual>
      <geometry>
        <mesh filename="../meshes/franka/visual/hand.dae"/>
      </geometry>
    </visual>
    <collision>
      <geometry>
        <mesh filename="../meshes/franka/collision/hand.stl"/>
      </geometry>
    </collision>
    <inertial>
      <mass value="0.73"/>
      <origin xyz="-0.01 0 0.03"/>
      <inertia ixx="0.001" ixy="0" ixz="0" iyy="0.0025" iyz="0" izz="0.0017"/>
    </inertial>
  </link>
  <link name="panda_right_leftfinger">
    <inertial>
      <mass value="0.015"/>
      <inertia ixx="2.3749999999999997e-06" ixy="0" ixz="0" iyy="2.3749999999999997e-06" iyz="0" izz="7.5e-07"/>
    </inertial>
    <visual>
      <geometry>
        <mesh filename="../meshes/franka/visual/finger.dae"/>
      </geometry>
    </visual>
    <!-- screw mount -->
    <collision>
      <origin rpy="0 0 0" xyz="0 +18.5e-3 11e-3"/>
      <geometry>
        <box size="22e-3 15e-3 20e-3"/>
      </geometry>
    </collision>
    <!-- cartriage sledge -->
    <collision>
      <origin rpy="0 0 0" xyz="0 +6.8e-3 2.2e-3"/>
      <geometry>
        <box size="22e-3 8.8e-3 3.8e-3"/>
      </geometry>
    </collision>
    <!-- diagonal finger -->
    <collision>
      <origin rpy="+0.5235987755982988 0 0" xyz="0 +15.9e-3 28.35e-3"/>
      <geometry>
        <box size="17.5e-3 7e-3 23.5e-3"/>
      </geometry>
    </collision>
    <!-- rubber tip with which to grasp -->
    <collision>
      <origin rpy="0 0 0" xyz="0 +7.58e-3 45.25e-3"/>
      <geometry>
        <box size="17.5e-3 15.2e-3 18.5e-3"/>
      </geometry>
    </collision>
  </link>
  <link name="panda_right_rightfinger">
    <inertial>
      <mass value="0.015"/>
      <inertia ixx="2.3749999999999997e-06" ixy="0" ixz="0" iyy="2.3749999999999997e-06" iyz="0" izz="7.5e-07"/>
    </inertial>
    <visual>
      <origin rpy="0 0 3.141592653589793" xyz="0 0 0"/>
      <geometry>
        <mesh filename="../meshes/franka/visual/finger.dae"/>
      </geometry>
    </visual>
    <!-- screw mount -->
    <collision>
      <origin rpy="0 0 0" xyz="0 -18.5e-3 11e-3"/>
      <geometry>
        <box size="22e-3 15e-3 20e-3"/>
      </geometry>
    </collision>
    <!-- cartriage sledge -->
    <collision>
      <origin rpy="0 0 0" xyz="0 -6.8e-3 2.2e-3"/>
      <geometry>
        <box size="22e-3 8.8e-3 3.8e-3"/>
      </geometry>
    </collision>
    <!-- diagonal finger -->
    <collision>
      <origin rpy="-0.5235987755982988 0 0" xyz="0 -15.9e-3 28.35e-3"/>
      <geometry>
        <box size="17.5e-3 7e-3 23.5e-3"/>
      </geometry>
    </collision>
    <!-- rubber tip with which to grasp -->
    <collision>
      <origin rpy="0 0 0" xyz="0 -7.58e-3 45.25e-3"/>
      <geometry>
        <box size="17.5e-3 15.2e-3 18.5e-3"/>
      </geometry>
    </collision>
  </link>
  <joint name="panda_right_finger_joint1" type="prismatic">
    <parent link="panda_right_hand"/>
    <child link="panda_right_leftfinger"/>
    <origin rpy="0 0 0" xyz="0 0 0.0584"/>
    <axis xyz="0 1 0"/>
    <limit effort="100" lower="0.0" upper="0.04" velocity="0.2"/>
    <dynamics damping="0.03" friction="0.0"/>
  </joint>
  <joint name="panda_right_finger_joint2" type="prismatic">
    <parent link="panda_right_hand"/>
    <child link="panda_right_rightfinger"/>
    <origin rpy="0 0 0" xyz="0 0 0.0584"/>
    <axis xyz="0 -1 0"/>
    <limit effort="100" lower="0.0" upper="0.04" velocity="0.2"/>
    <dynamics damping="0.03" friction="0.0"/>
  </joint>
</robot>
